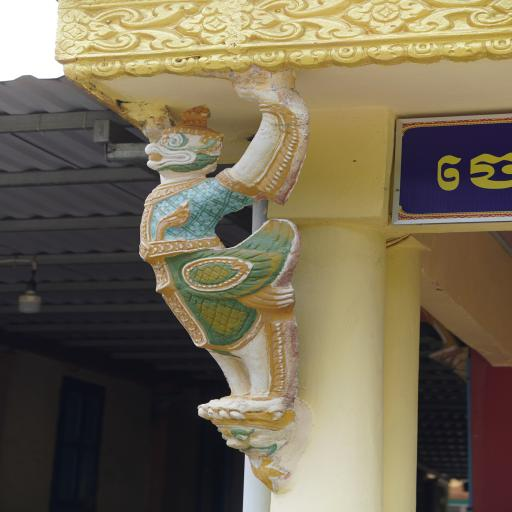hoa: (186, 5, 275, 45), (56, 8, 116, 58), (348, 0, 426, 34)
la: (95, 2, 201, 31), (260, 16, 365, 43), (94, 27, 198, 53), (412, 6, 512, 33), (255, 0, 356, 16), (199, 52, 250, 77), (282, 46, 331, 72), (162, 53, 208, 79), (439, 40, 487, 63), (249, 50, 290, 76), (368, 42, 405, 68), (404, 42, 442, 67), (124, 56, 165, 78), (329, 45, 364, 69), (485, 38, 512, 62), (91, 61, 121, 80)
than: (104, 78, 374, 494)
